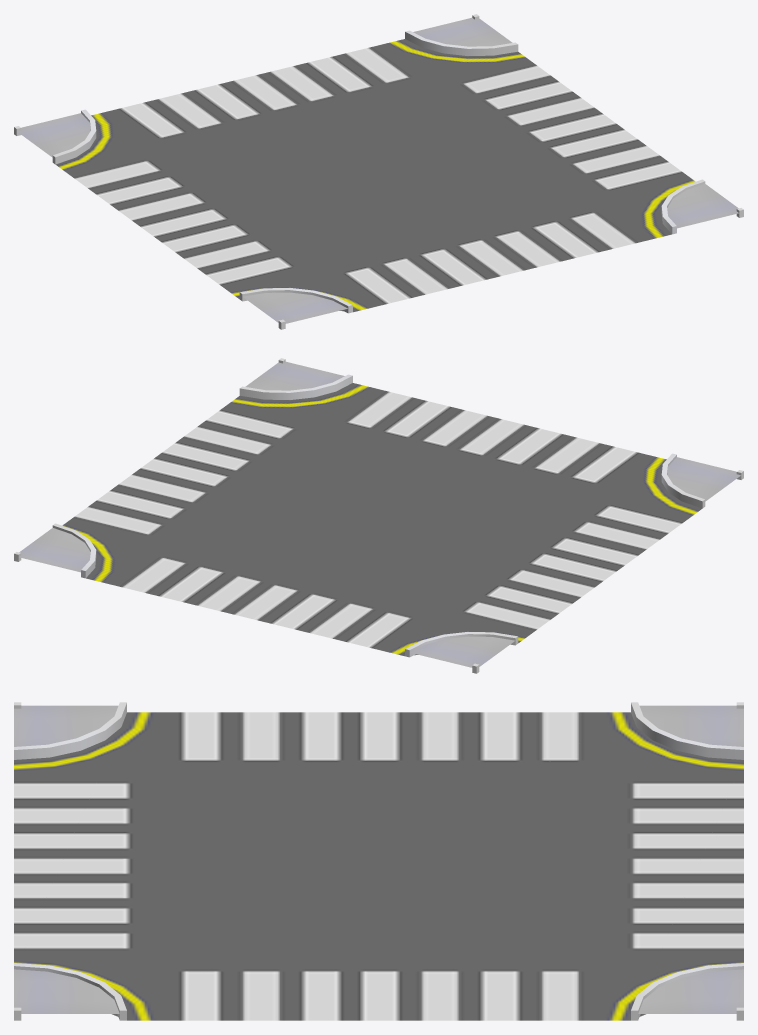
Rendered from ROAD_intersection.FBX.
The picture shows the model from 3 angles, top to bottom: view 1: azimuth 30°, elevation 25°; view 2: azimuth 150°, elevation 25°; view 3: azimuth 270°, elevation 25°; orthographic projection. The views are drawn at different scales.
Visible parts, largest first — view 1: ROAD_intersection; view 2: ROAD_intersection; view 3: ROAD_intersection.
Part boxes in pixels (x1,y1,x2,y2): ROAD_intersection: (14,14,743,329); ROAD_intersection: (14,358,743,673); ROAD_intersection: (14,702,743,1020).
Bounding box in the file's own units: 1 × 0.015 × 1.
